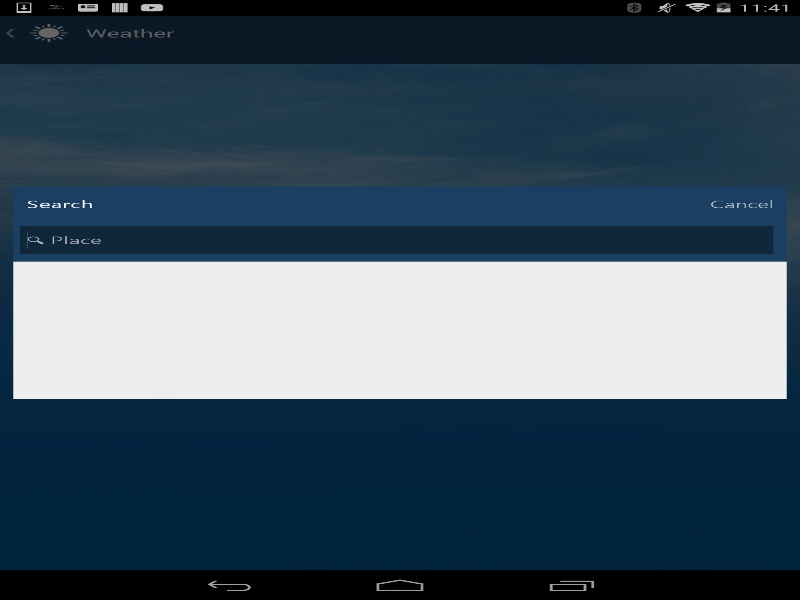Input: (20, 225, 773, 254)
